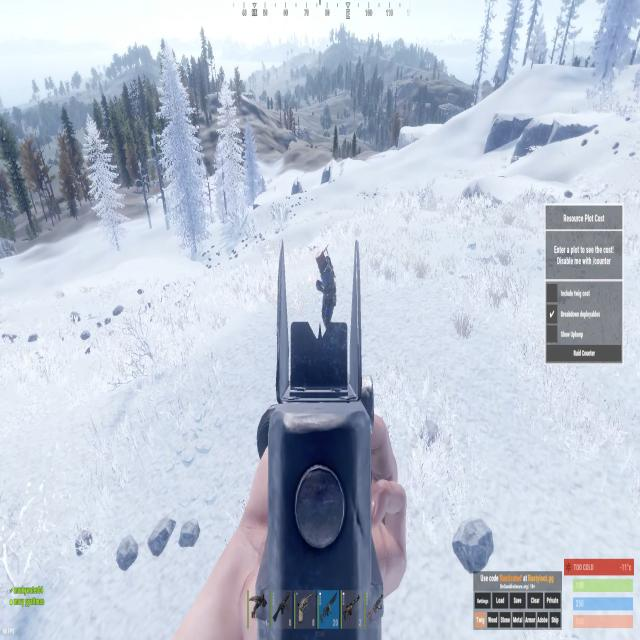Player: (314, 245, 338, 336)
